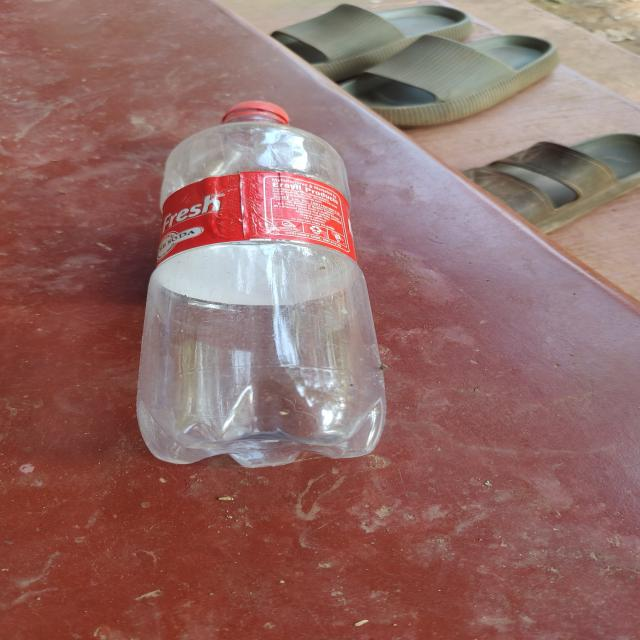plastic: (134, 98, 392, 466)
